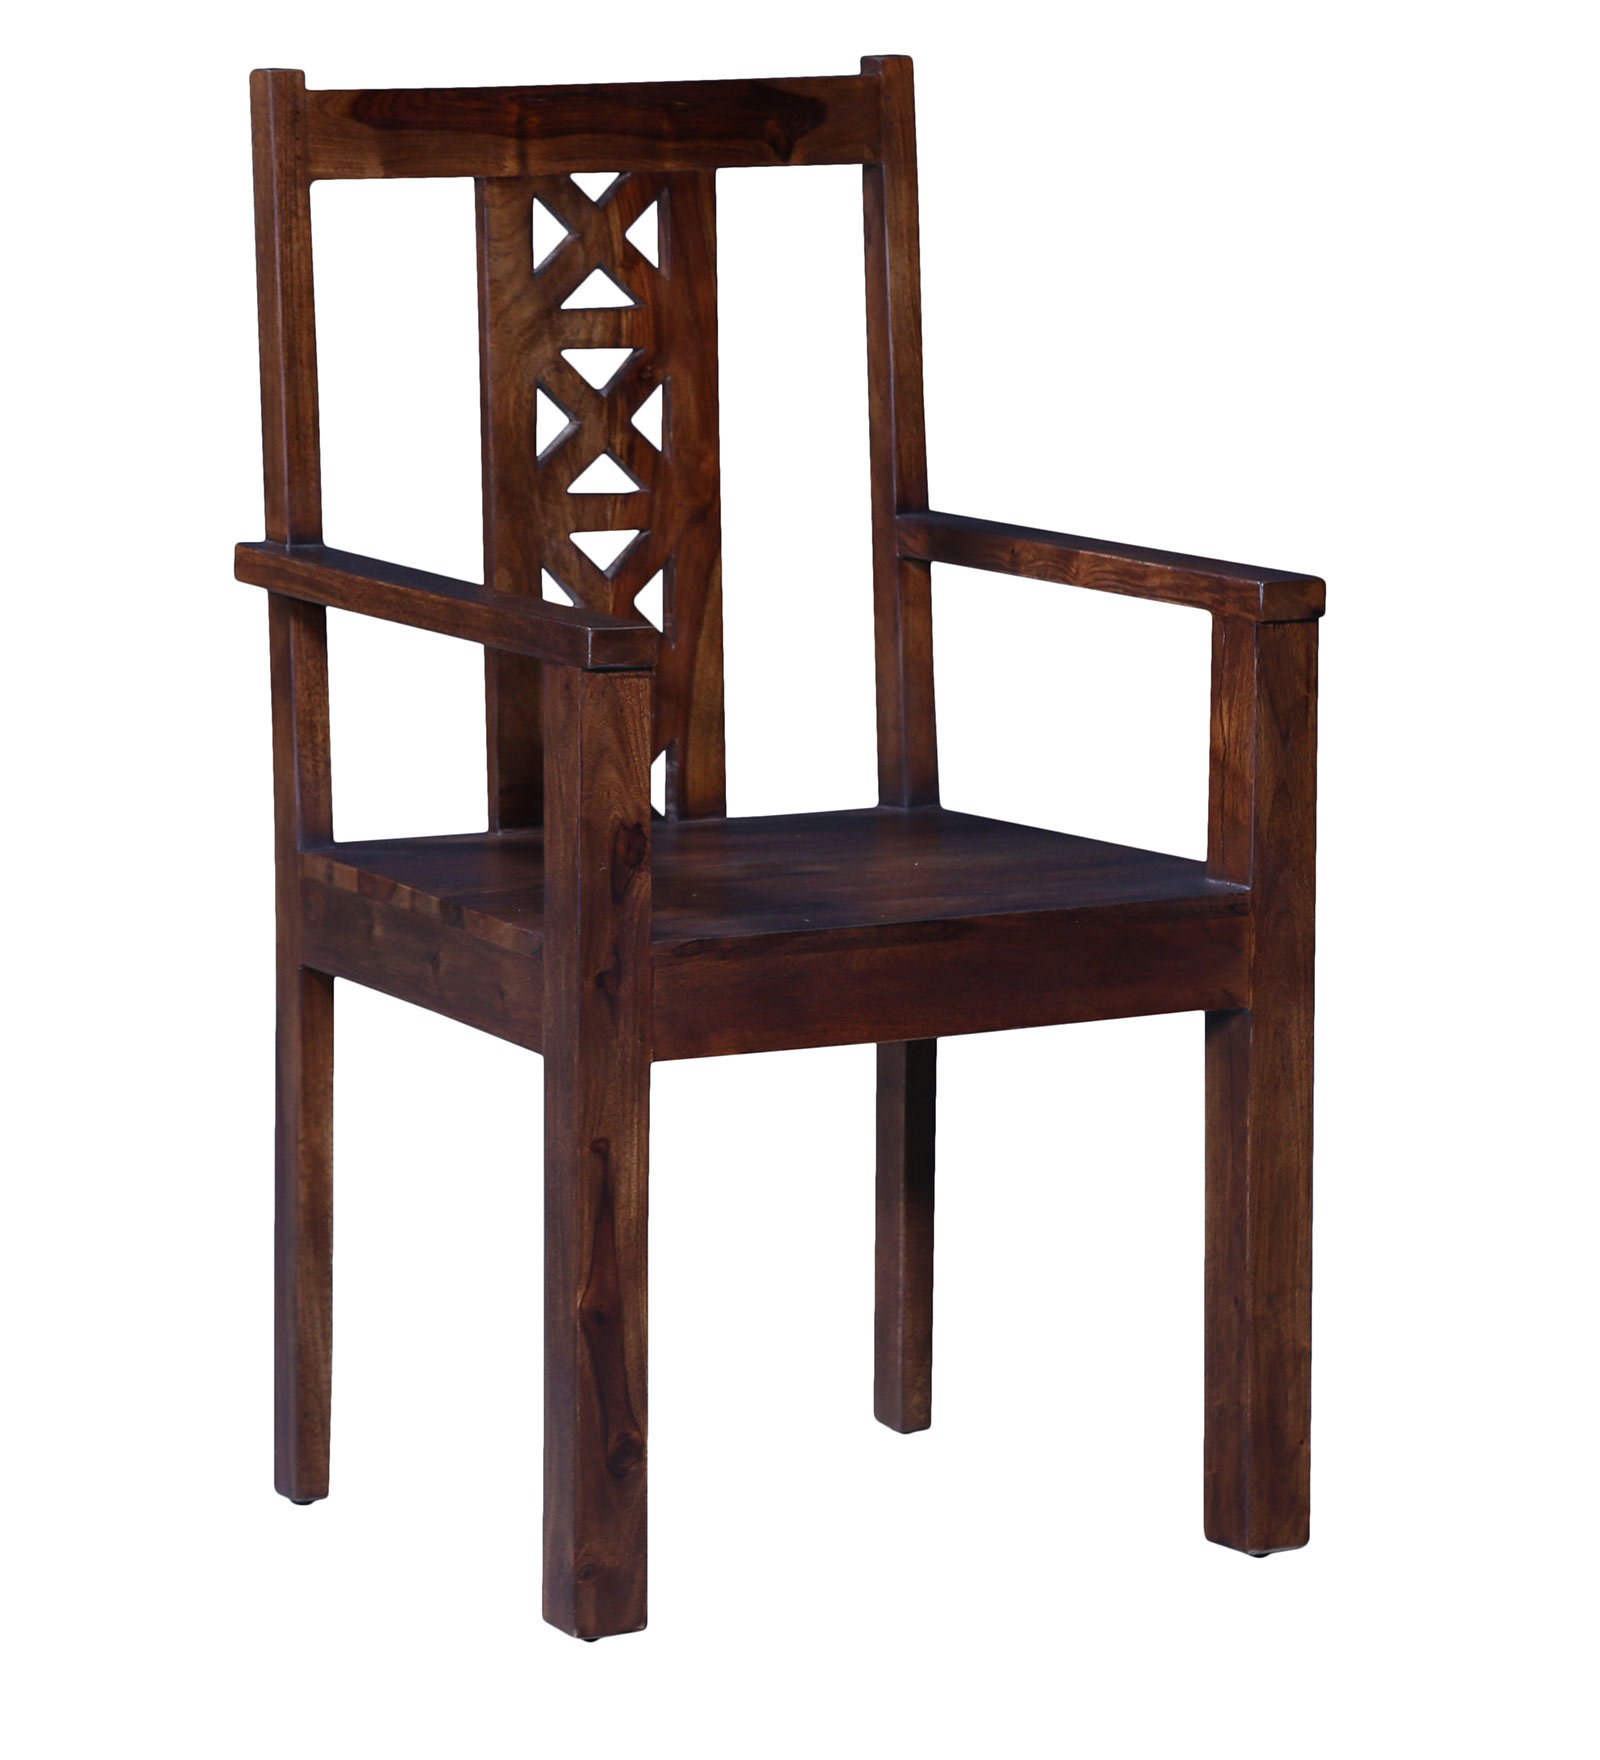Kryss Arm Chair in Provincial Teak Finish by Woodsworth: (176, 38, 1359, 1657)
